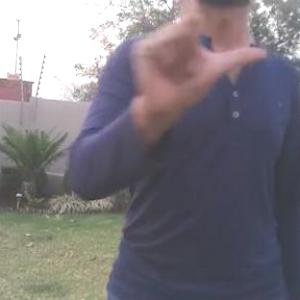land_hand: (122, 0, 269, 120)
